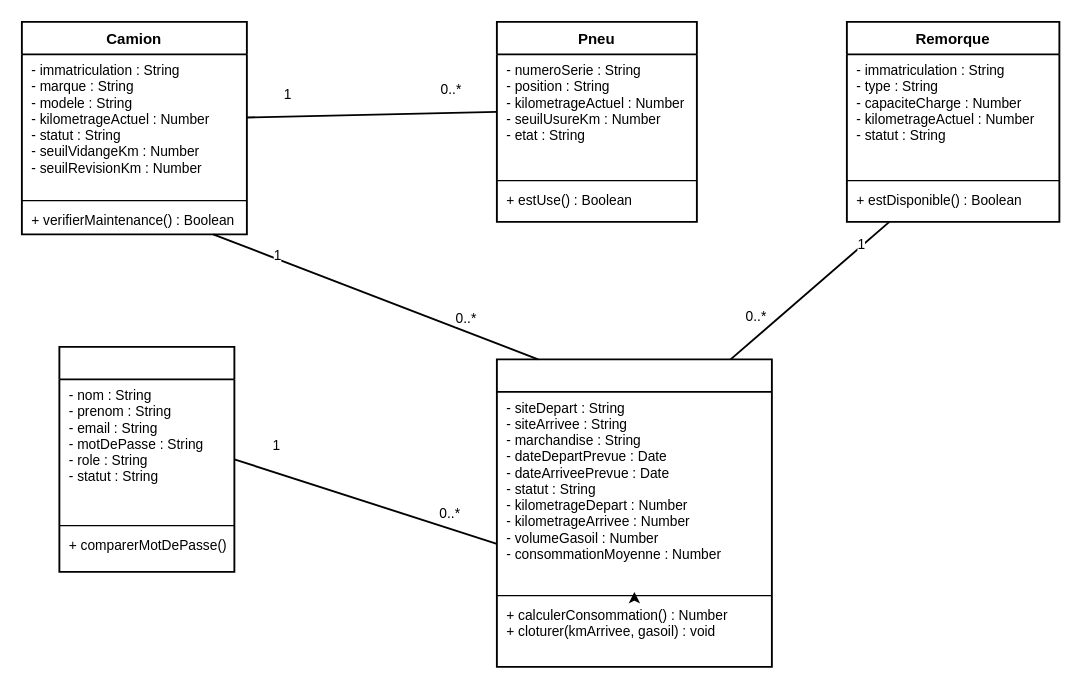
This 1083x693 diagram has some shape labels left out. Each missing label, with the box of its shape:
Trajet: (495, 358, 772, 667)
User: (58, 345, 235, 572)
